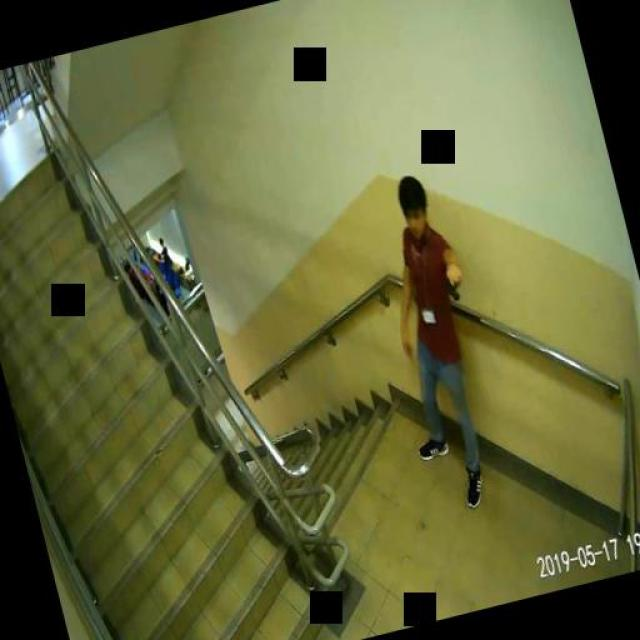gun: (438, 265, 470, 306)
